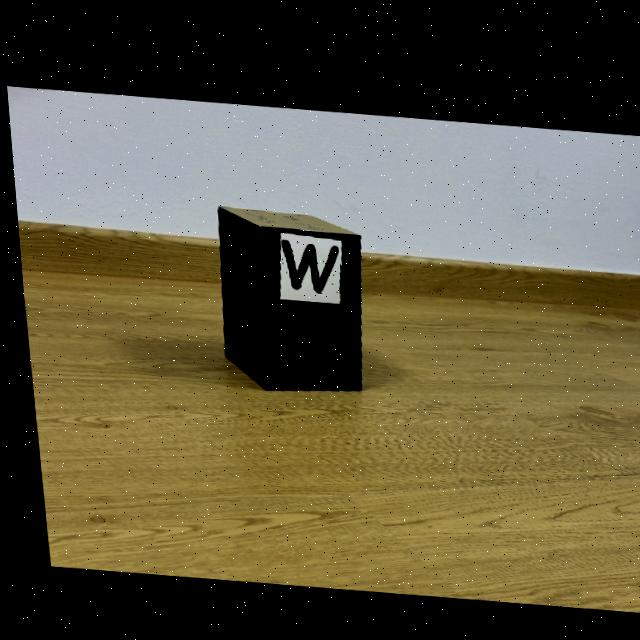W: (277, 235, 335, 286)
